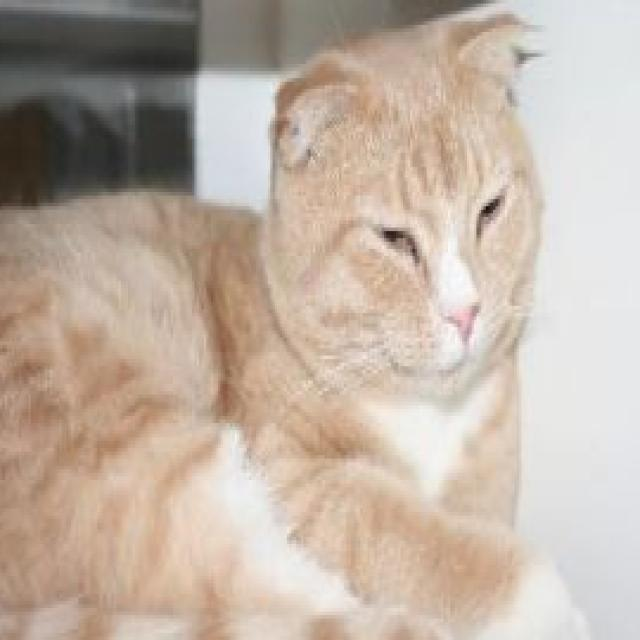Scottish Fold: (0, 3, 614, 640)
